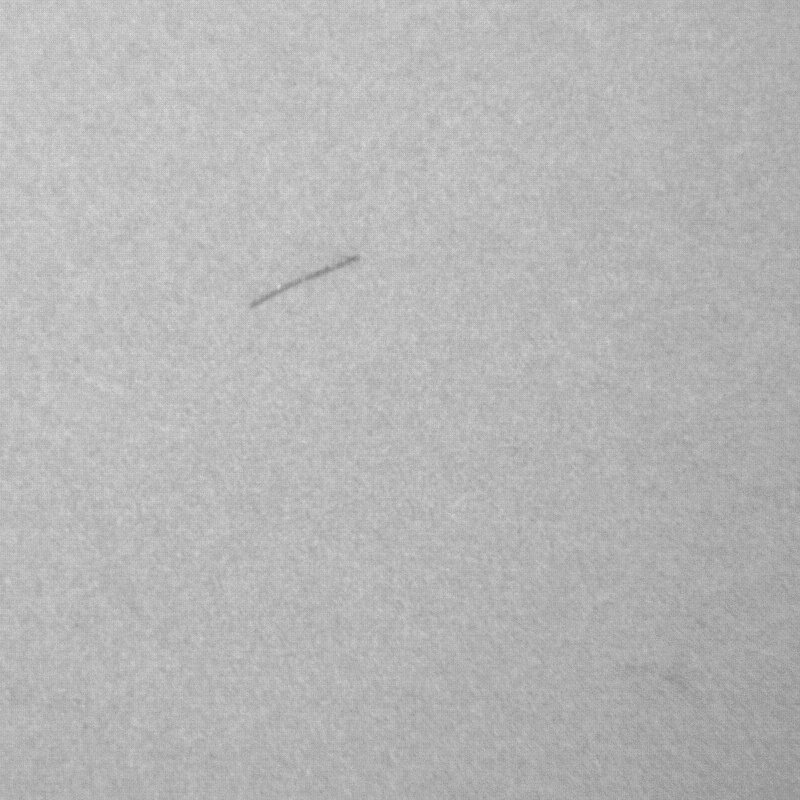defect: (246, 252, 355, 315)
